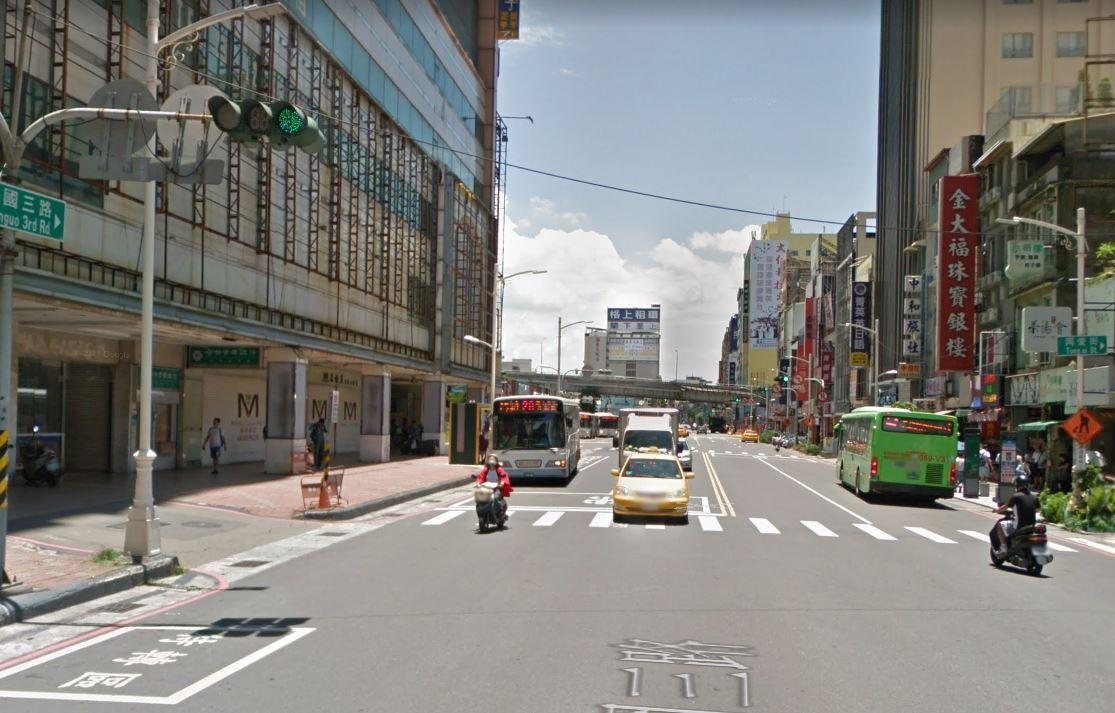car: (603, 437, 702, 526)
green_traffic_light: (210, 95, 327, 156)
motorcycle: (982, 502, 1056, 574), (467, 474, 511, 534)
truck: (481, 385, 582, 488), (607, 395, 682, 474)
